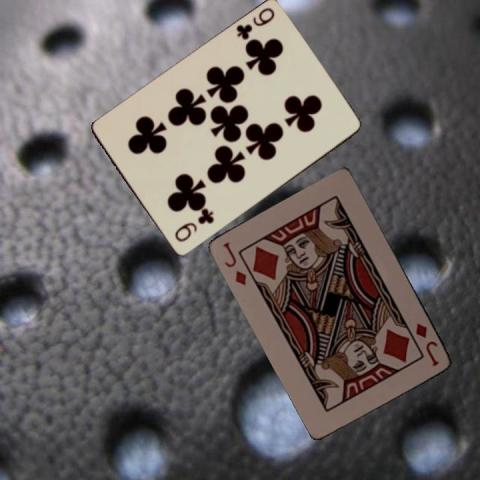9c: (233, 5, 276, 42), (172, 208, 216, 244)
Jd: (413, 320, 441, 368), (220, 239, 248, 287)
